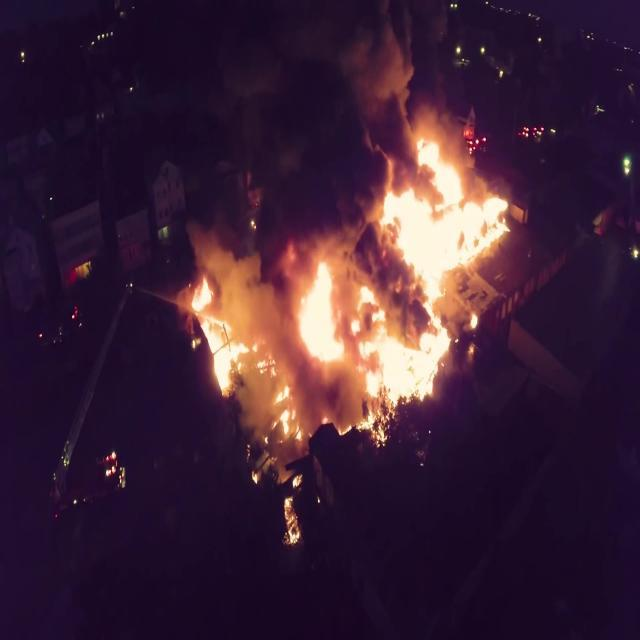Fire: (393, 140, 513, 276), (353, 281, 457, 424), (181, 277, 273, 388), (291, 252, 344, 383), (276, 384, 298, 450)
Smoke: (294, 116, 388, 258), (351, 17, 427, 192), (208, 200, 294, 318), (363, 226, 428, 334)
